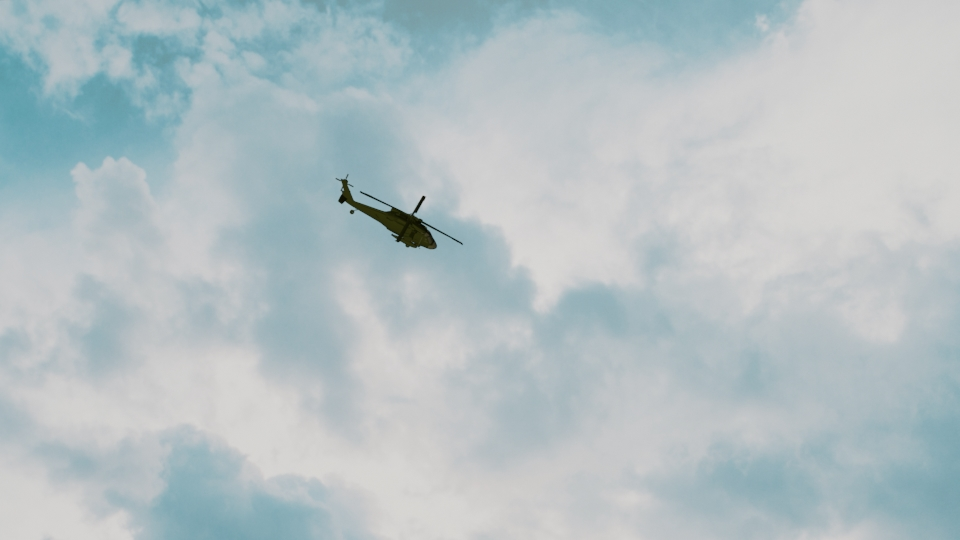heli: (336, 173, 445, 251)
